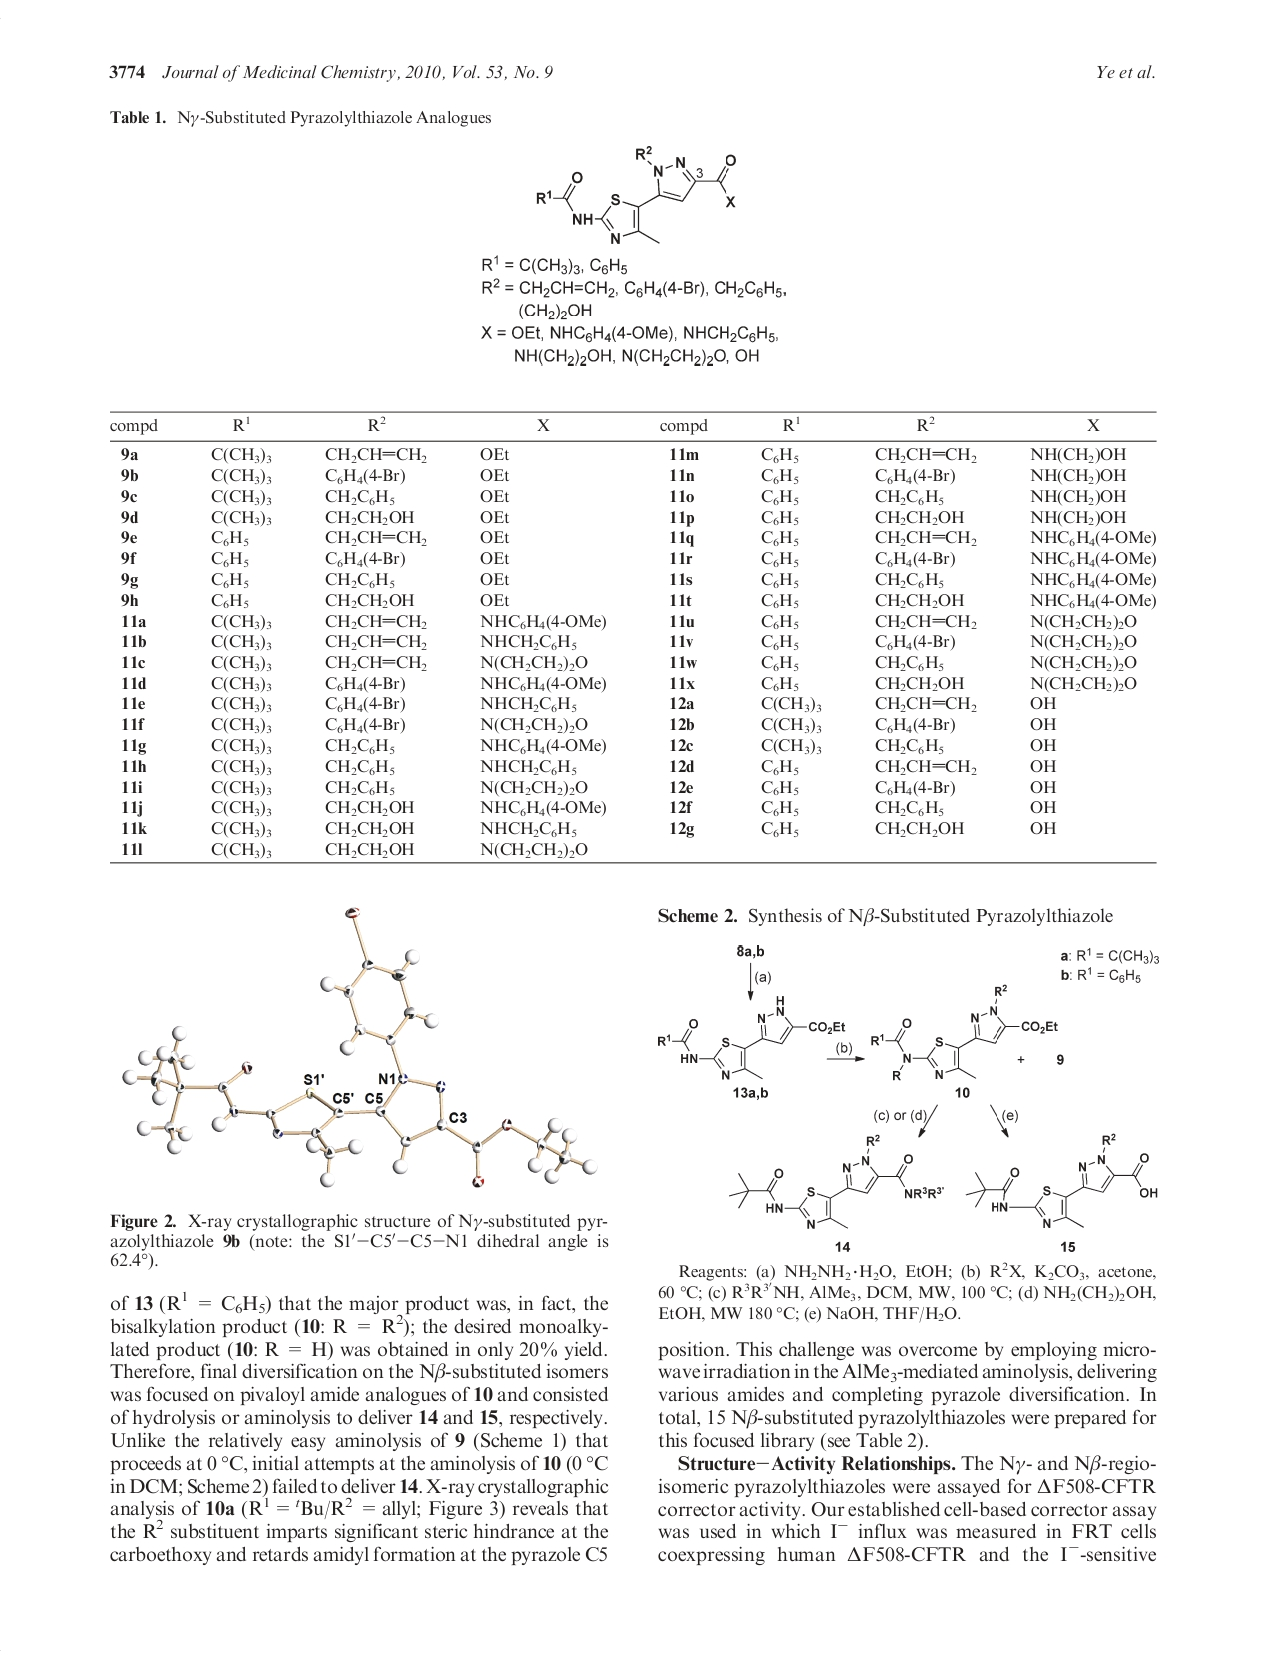exist_molecular: (656, 984, 1162, 1235), (531, 146, 750, 247)
